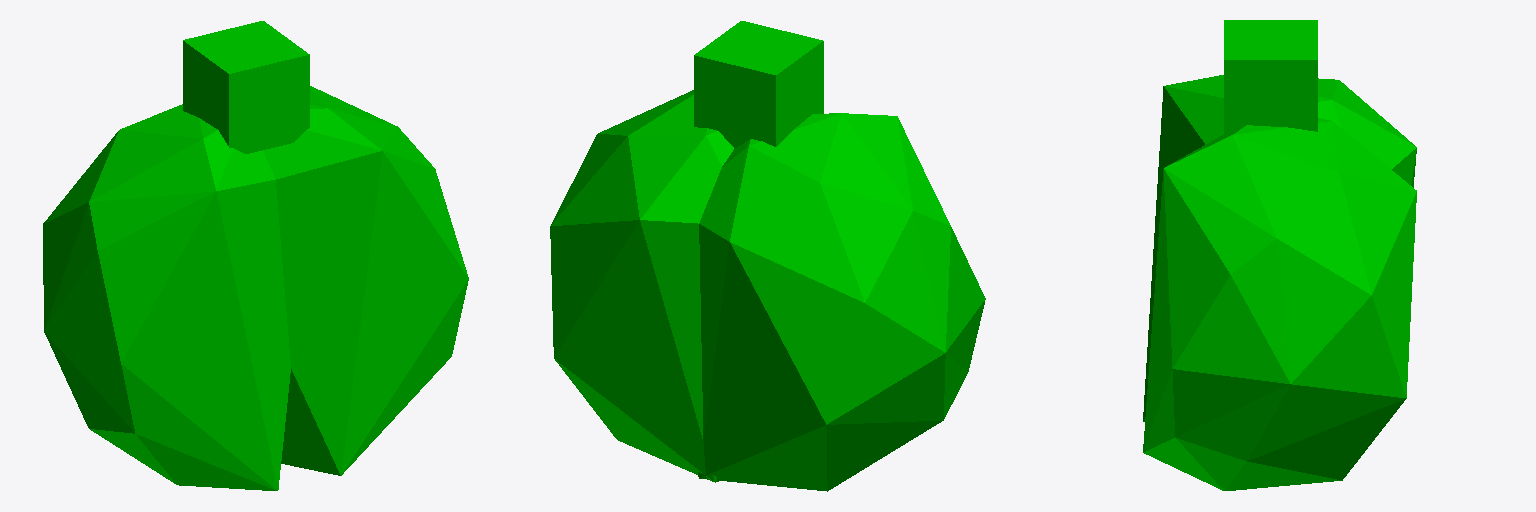
robot.urdf — robot_trunk:
<?xml version="1.0" ?>
<robot name="robot_trunk">
  <link name="base_link">
    <inertial>
      <origin xyz="0.026021 0.004338 -0.692522"/>
      <mass value="10"/>
      <inertia ixx="0.175435" ixy="0.001200" ixz="0.004971" iyy="0.123811" iyz="0.000284" izz="0.127274"/>
    </inertial>
    <visual>
      <origin xyz="0 0 0" rpy="0 0 0" />
      <geometry>
        <mesh filename="package://hpp-rbprm-corba/meshes/robot_test/robot_trunk_view.stl"/>
      </geometry>
      <material name="green">
        <color rgba="0 0.8 0 0.7"/>
      </material>
    </visual>
    <collision>
      <origin xyz="0 0 0" rpy="0 0 0" />
      <geometry>
        <mesh filename="package://hpp-rbprm-corba/meshes/robot_test/robot_trunk.stl"/>
      </geometry>
    </collision>
  </link>
</robot>

--- Render facts (derived) ---
Views: 3 orthographic renders of the robot side by side, from view 1: azimuth 30°, elevation 25°; view 2: azimuth 150°, elevation 25°; view 3: azimuth 270°, elevation 25°.
Model robot_trunk with 1 links and 0 joints (none), rooted at base_link, posed every joint at zero.
Links seen in each view (by area): view 1: base_link; view 2: base_link; view 3: base_link.
Boxes of the visible links, left/top/right/bottom form: base_link: left=43, top=21, right=468, bottom=490; base_link: left=550, top=21, right=985, bottom=491; base_link: left=1143, top=20, right=1416, bottom=490.
Size in the robot's own frame: 1.44 by 0.8701 by 1.47 metres.
1 mesh visuals loaded from 1 distinct referenced files (1 binary STL).